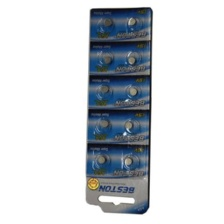book: (97, 82, 111, 95), (126, 14, 139, 28), (98, 116, 111, 129), (101, 53, 113, 66), (94, 153, 107, 164), (123, 154, 134, 167), (123, 119, 134, 131), (126, 85, 138, 96), (125, 54, 137, 65), (102, 15, 113, 26)
